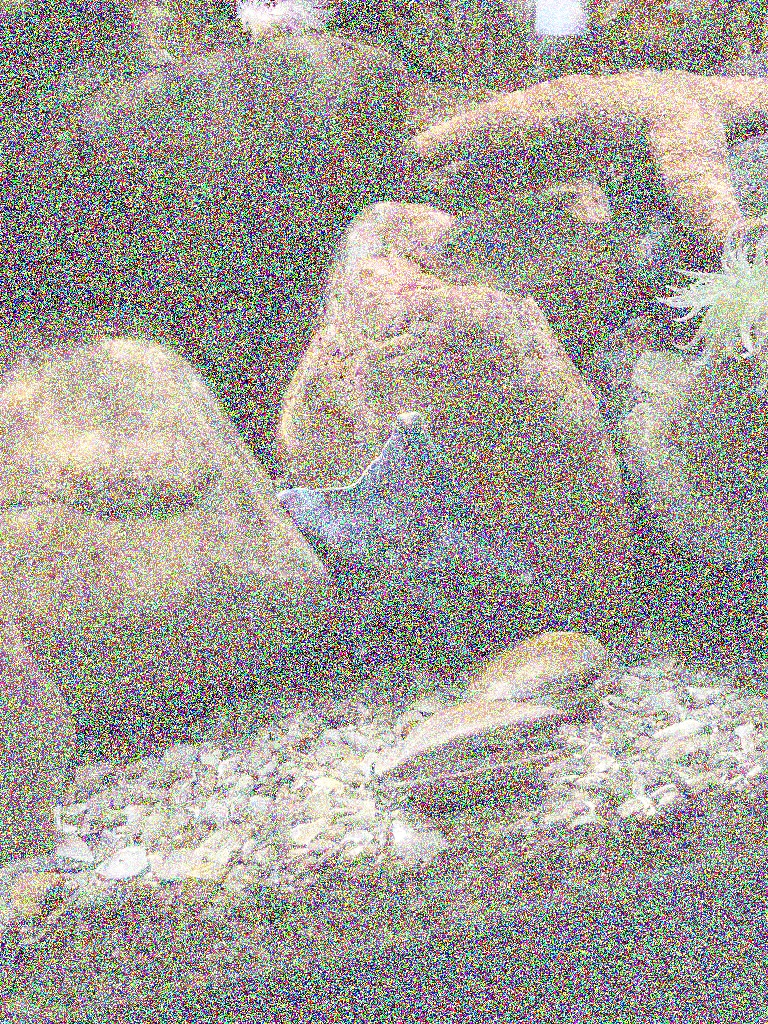fish: (424, 192, 630, 292)
starfish: (286, 418, 532, 660)
